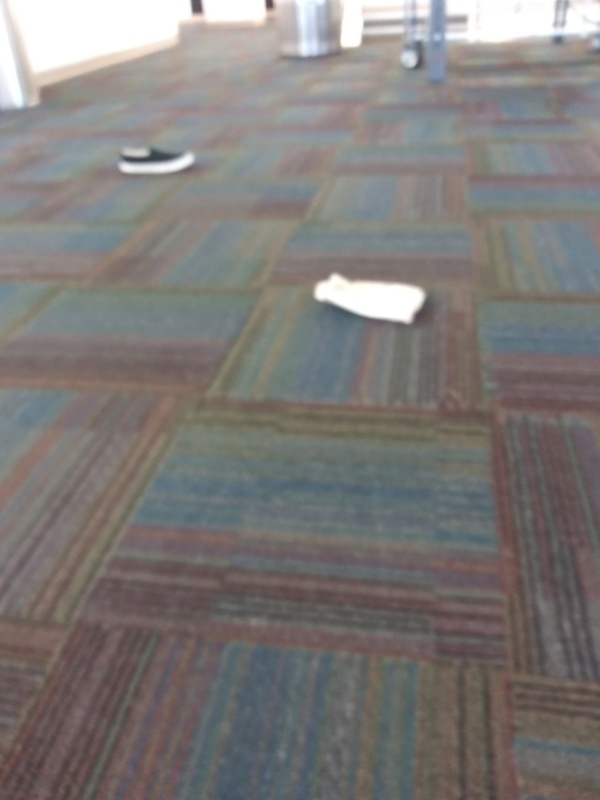bag: (307, 268, 434, 328)
